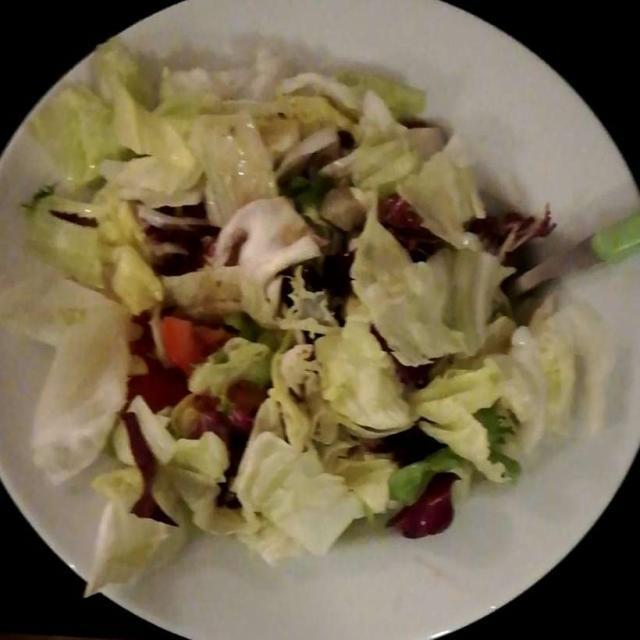salad: (27, 48, 608, 557)
tomato: (149, 313, 240, 368)
